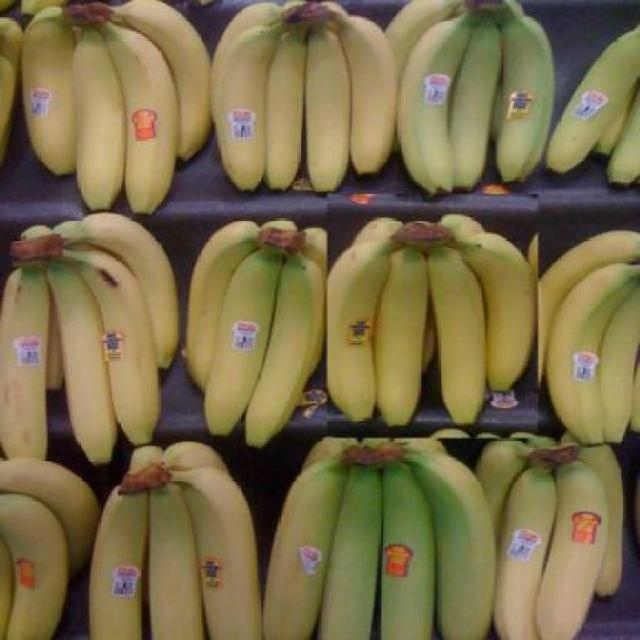Banana: (327, 195, 538, 438), (262, 432, 498, 640), (1, 214, 178, 462), (16, 0, 210, 205), (207, 4, 397, 191), (375, 0, 555, 197), (87, 443, 263, 640), (182, 216, 332, 443), (472, 429, 628, 640), (536, 224, 640, 448), (540, 19, 640, 212), (0, 460, 98, 640)
